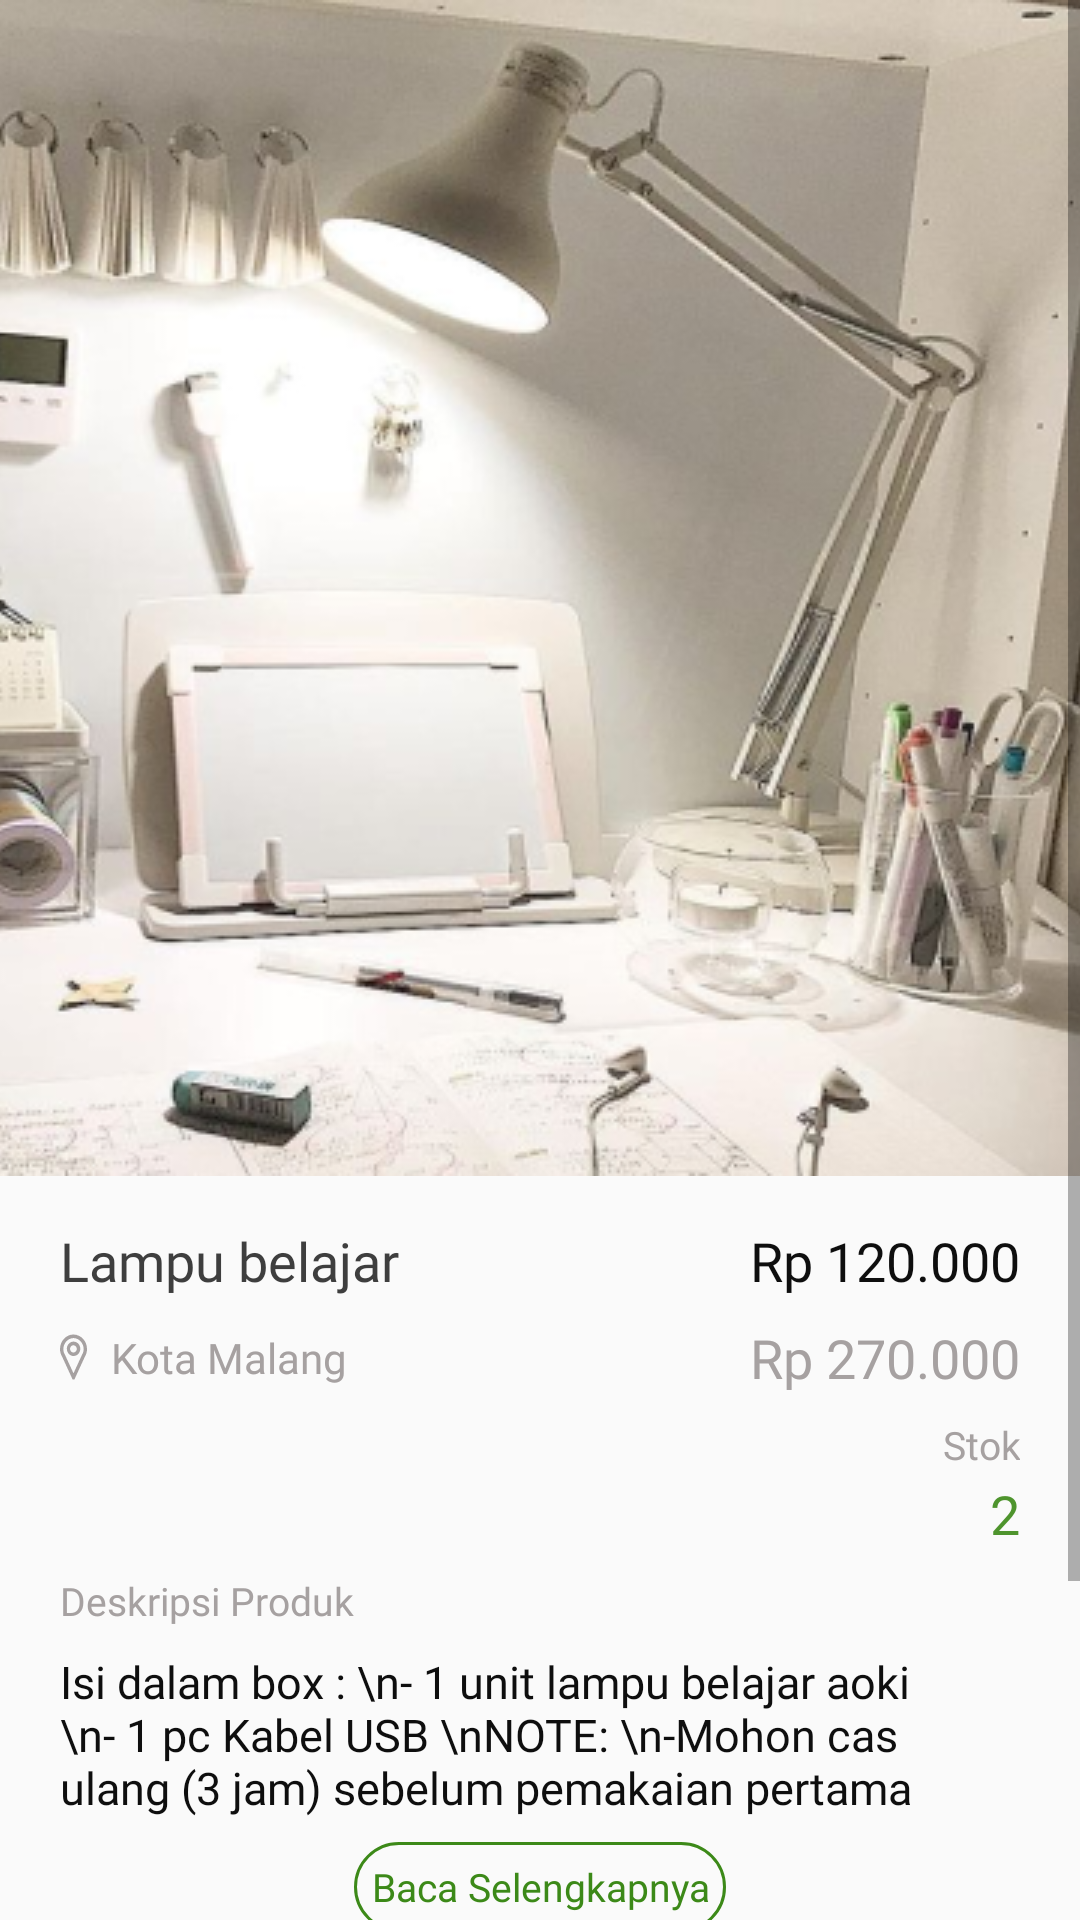

Where to tap for icons on this 1080px×1920px app screen, as [x,y]:
location detail: [73,1357]
